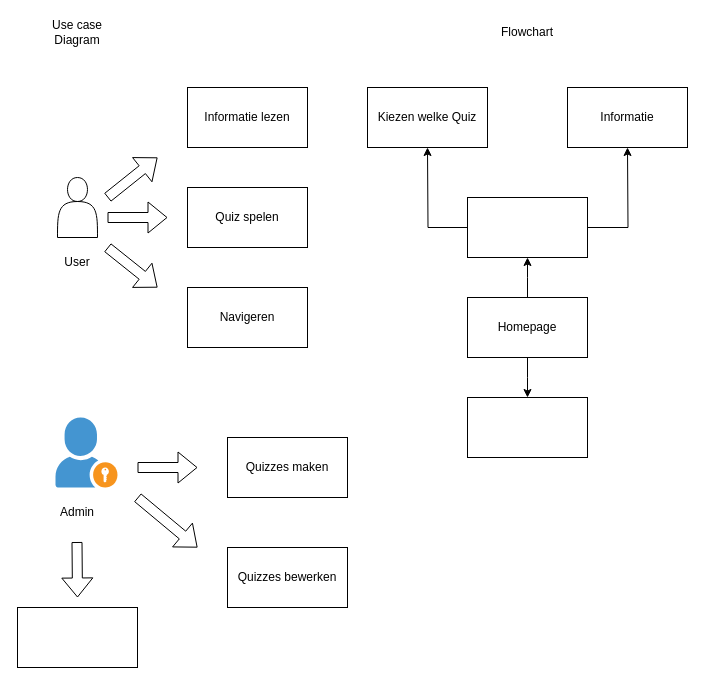
This 705x685 diagram has some shape labels left out. Here are the shapes that lost their labels. From the top down, the centre of each, then its label:
At [527,227]: "Quizzes".
At [527,427]: "Informatie Algemeen".
At [77,637]: "Website host".
